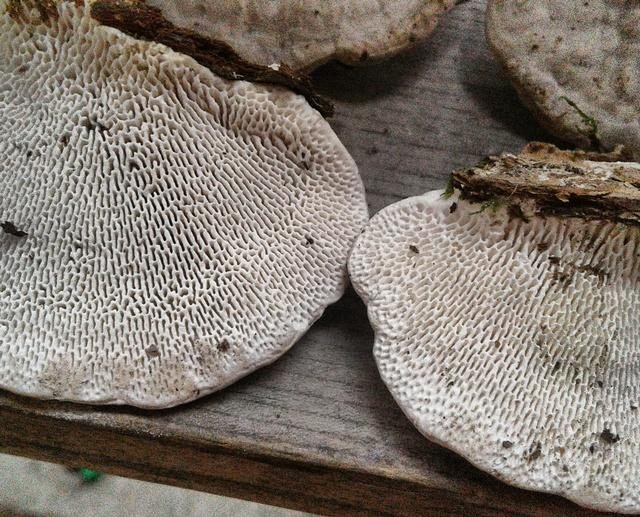Non-edible Mushroom: (0, 0, 369, 410), (346, 140, 639, 514)
